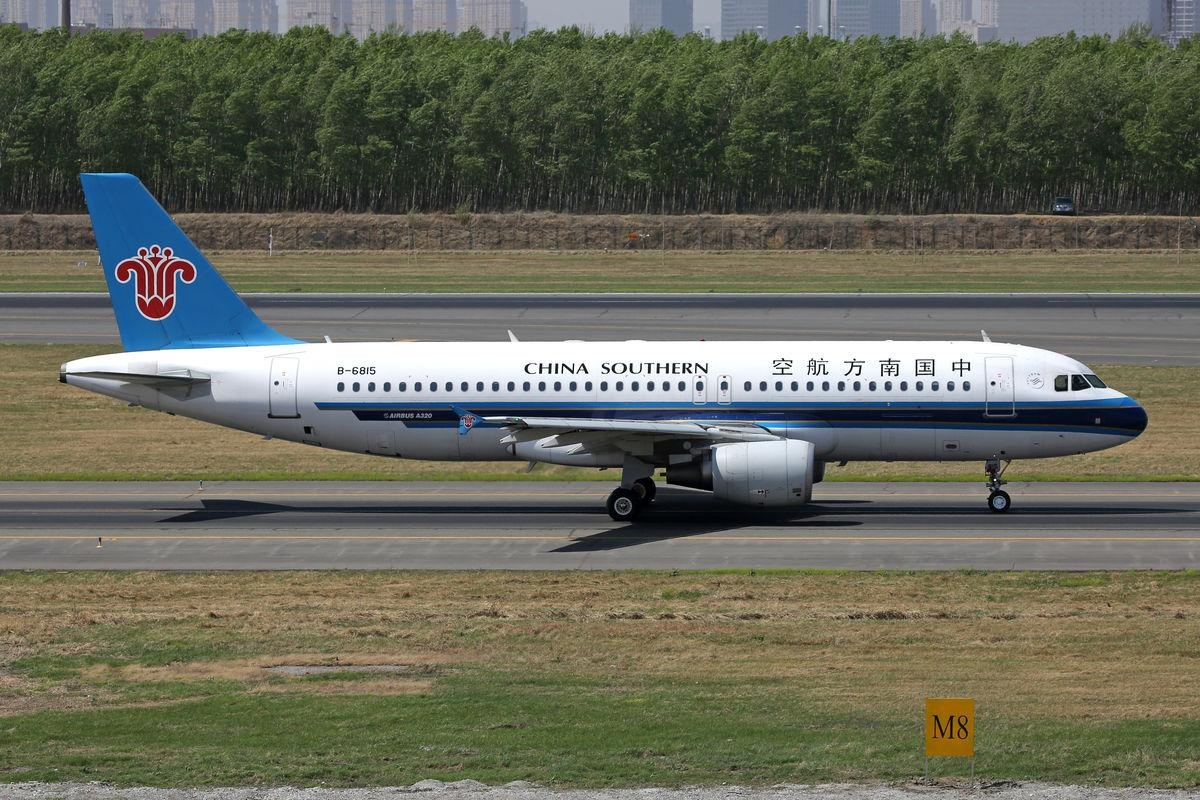airplane: (54, 168, 1157, 559)
